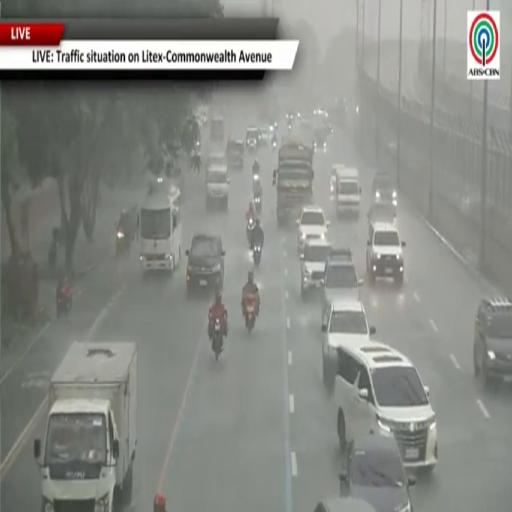bus: (139, 186, 182, 270)
car: (334, 341, 437, 472), (340, 435, 416, 511), (322, 299, 375, 392), (474, 297, 511, 389), (322, 248, 363, 323), (366, 222, 405, 284), (186, 234, 225, 292), (301, 238, 331, 298), (297, 206, 329, 253), (368, 203, 396, 237), (372, 172, 397, 206), (314, 498, 375, 511), (226, 138, 244, 170), (330, 164, 344, 198), (313, 127, 329, 151), (206, 152, 227, 170), (210, 116, 224, 142), (246, 126, 259, 152), (259, 127, 270, 146)
motorcycle: (56, 285, 73, 317), (245, 294, 257, 333), (212, 318, 223, 360), (116, 230, 130, 255), (48, 240, 57, 273), (247, 217, 254, 245), (253, 245, 261, 266), (254, 195, 261, 213), (272, 140, 276, 150), (288, 124, 291, 132)
truck: (33, 342, 137, 511), (273, 138, 314, 225)
